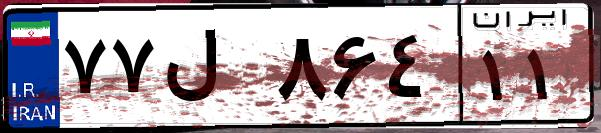1: (475, 38, 525, 113), (525, 38, 570, 115)
4: (385, 28, 445, 110)
6: (330, 28, 385, 110)
7: (57, 26, 110, 100), (110, 28, 158, 98)
8: (270, 28, 330, 110)
ل: (158, 20, 270, 120)
